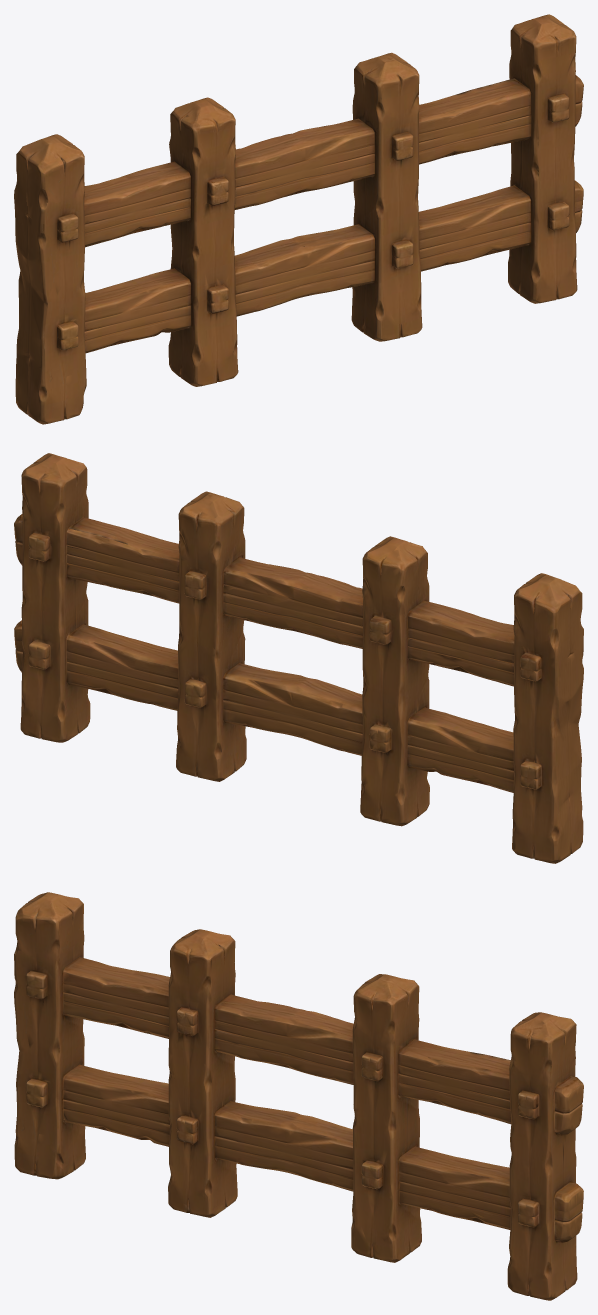
Rendered from fence.glb.
3 views of the same model, one above another, from view 1: azimuth 30°, elevation 25°; view 2: azimuth 150°, elevation 25°; view 3: azimuth 330°, elevation 25° (orthographic).
Parts seen in each view (by area): view 1: node_0; view 2: node_0; view 3: node_0.
Boxes of the visible parts, x1=… form: node_0: x1=14, y1=14, x2=583, y2=424; node_0: x1=14, y1=453, x2=583, y2=863; node_0: x1=14, y1=892, x2=583, y2=1300.
Bounding box in the file's own units: 1.09 × 0.5261 × 0.1225.
1 material, 1 textured.
